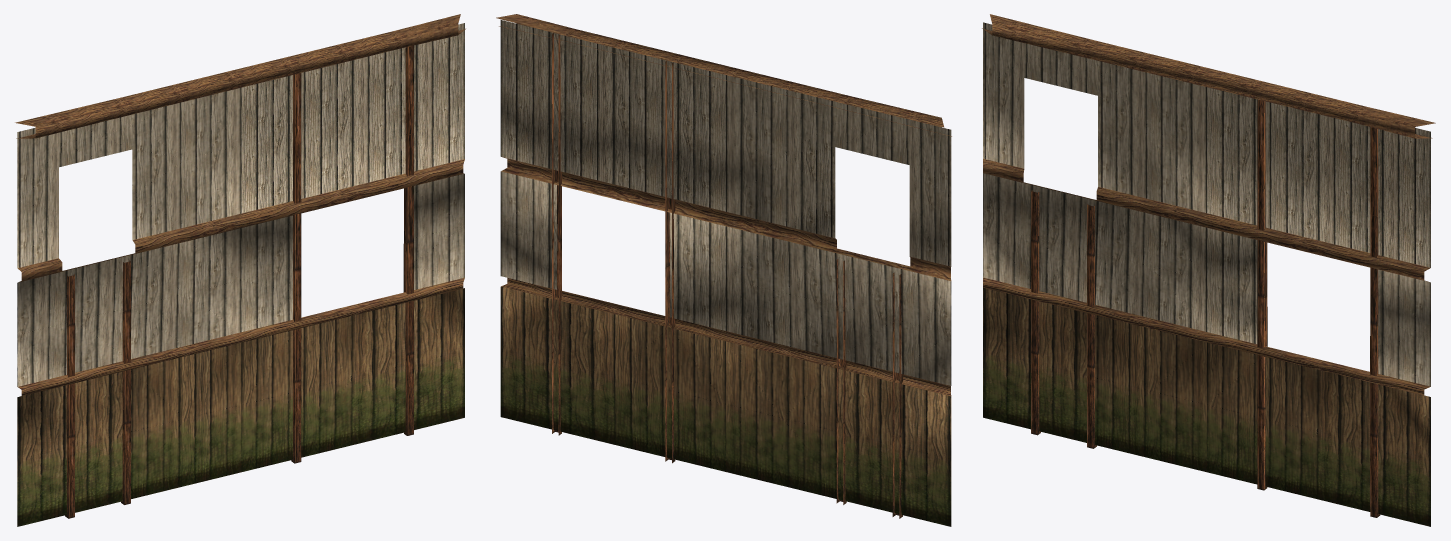
File: LAKETOWN_WAREHOUSE3_PS_WH3_SIDEWALL8877__GX.fbx
3 views of the same model, side by side, from view 1: azimuth 30°, elevation 25°; view 2: azimuth 150°, elevation 25°; view 3: azimuth 330°, elevation 25° (orthographic).
Visible parts, largest first — view 1: LAKETOWN_WAREHOUSE3_PS_WH3_SIDEWALL8877__GX; view 2: LAKETOWN_WAREHOUSE3_PS_WH3_SIDEWALL8877__GX; view 3: LAKETOWN_WAREHOUSE3_PS_WH3_SIDEWALL8877__GX.
Boxes of the visible parts, x1,y1,x2,y2 form: LAKETOWN_WAREHOUSE3_PS_WH3_SIDEWALL8877__GX: (15,14,465,526); LAKETOWN_WAREHOUSE3_PS_WH3_SIDEWALL8877__GX: (496,14,951,526); LAKETOWN_WAREHOUSE3_PS_WH3_SIDEWALL8877__GX: (982,14,1435,526).
Bounding box in the file's own units: 160503 × 136952 × 5821.
6 materials, 6 textured.
